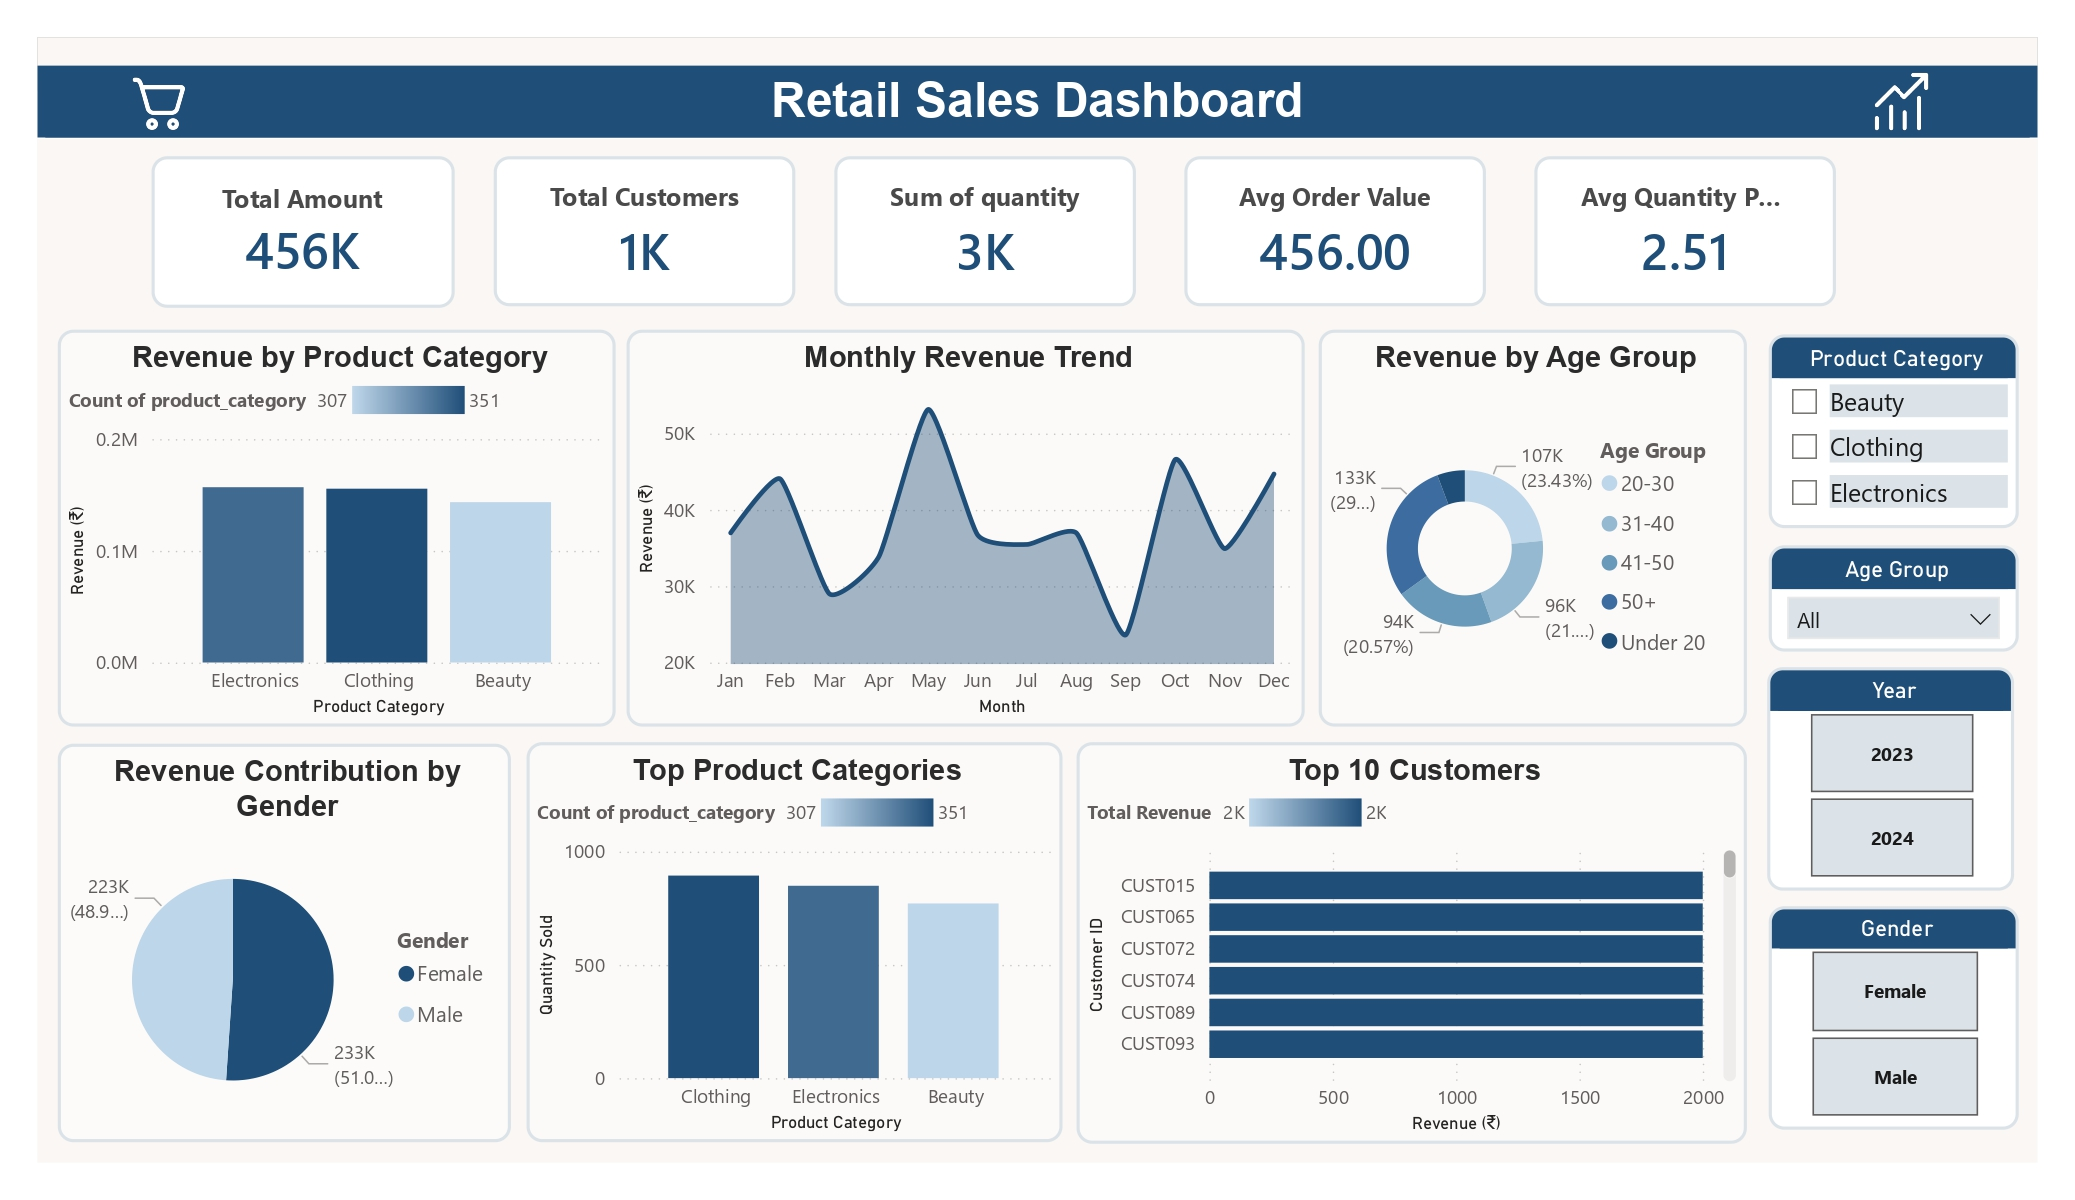

The page's visual inventory and layout, read from the dashboard file:
{"tool":"powerbi","page":{"name":"Page 1","canvas":[1280,720],"ordinal":0},"visuals":[{"type":"cardVisual","fields":{"Data":["Sum(cleaned_sales.total_amount)"]},"box":[73.3,76,193.3,96.7],"z":0},{"type":"cardVisual","fields":{"Data":["Count(cleaned_sales.customer_id)"]},"box":[291.9,76.4,193.2,96],"z":1000},{"type":"cardVisual","fields":{"Data":["Sum(cleaned_sales.quantity)"]},"box":[510.1,76.4,193.2,96],"z":2000},{"type":"cardVisual","fields":{"Data":["cleaned_sales.AOV"]},"box":[733.9,76.4,193.2,96],"z":3000},{"type":"cardVisual","fields":{"Data":["cleaned_sales.AvgQuantityPerCustomer"]},"box":[957.7,76.4,193.2,96],"z":4000},{"type":"areaChart","title":"Monthly Revenue Trend","fields":{"Category":["cleaned_sales.MonthName"],"Y":["cleaned_sales.MonthlyRevenue"]},"box":[377.1,187.1,434.3,254.3],"z":5000},{"type":"clusteredColumnChart","title":"Top Product Categories","fields":{"Category":["cleaned_sales.product_category"],"Y":["Sum(cleaned_sales.quantity)"]},"box":[312.9,451,342.9,255.7],"z":6000},{"type":"pieChart","title":"Revenue Contribution by Gender ","fields":{"Category":["cleaned_sales.gender"],"Y":["Sum(cleaned_sales.total_amount)"]},"box":[12.5,451.7,290.5,255.8],"z":7000},{"type":"columnChart","title":"Revenue by Product Category","fields":{"Category":["cleaned_sales.product_category"],"Y":["Sum(cleaned_sales.total_amount)"]},"box":[12.5,187,357.2,254.4],"z":8000},{"type":"donutChart","title":"Revenue by Age Group ","fields":{"Category":["cleaned_sales.AgeGroup"],"Y":["Sum(cleaned_sales.total_amount)"]},"box":[820.1,187,273.8,254.4],"z":9000},{"type":"slicer","title":"Product Category","fields":{"Values":["cleaned_sales.product_category"]},"box":[1107.8,190.4,159.8,123.7],"z":10000},{"type":"slicer","title":"Age Group","fields":{"Values":["cleaned_sales.AgeGroup"]},"box":[1107.8,325.3,159.8,68.1],"z":11000},{"type":"slicer","title":"Year","fields":{"Values":["cleaned_sales.Year"]},"box":[1107,403.1,158.5,143.2],"z":12000},{"type":"slicer","title":"Gender","fields":{"Values":["cleaned_sales.gender"]},"box":[1107.8,556,159.8,143],"z":13000},{"type":"clusteredBarChart","title":"Top 10 Customers","fields":{"Y":["cleaned_sales.Total Revenue"],"Category":["cleaned_sales.customer_id"]},"box":[665,451.2,428.8,256.2],"z":14000},{"type":"textbox","title":"Retail Sales Dashboard","box":[0,18.3,1280,46.7],"z":15000},{"type":"image","box":[1150.9,19.5,82,43.1],"z":16000},{"type":"image","box":[42.5,18.8,72.5,46.2],"z":18000}]}

Visuals, with their boxes on the page's 1280x720 design canvas (x1, y1, x2, y2). These are canvas units, not pixel positions in the 2075x1200 screenshot, which may show the page scaled, cropped or inside an application window:
cardVisual - Sum(cleaned_sales.total_amount): bbox=[73, 76, 267, 173]
cardVisual - Count(cleaned_sales.customer_id): bbox=[292, 76, 485, 172]
cardVisual - Sum(cleaned_sales.quantity): bbox=[510, 76, 703, 172]
cardVisual - cleaned_sales.AOV: bbox=[734, 76, 927, 172]
cardVisual - cleaned_sales.AvgQuantityPerCustomer: bbox=[958, 76, 1151, 172]
"Monthly Revenue Trend" areaChart: bbox=[377, 187, 811, 441]
"Top Product Categories" clusteredColumnChart: bbox=[313, 451, 656, 707]
"Revenue Contribution by Gender " pieChart: bbox=[12, 452, 303, 708]
"Revenue by Product Category" columnChart: bbox=[12, 187, 370, 441]
"Revenue by Age Group " donutChart: bbox=[820, 187, 1094, 441]
"Product Category" slicer: bbox=[1108, 190, 1268, 314]
"Age Group" slicer: bbox=[1108, 325, 1268, 393]
"Year" slicer: bbox=[1107, 403, 1266, 546]
"Gender" slicer: bbox=[1108, 556, 1268, 699]
"Top 10 Customers" clusteredBarChart: bbox=[665, 451, 1094, 707]
"Retail Sales Dashboard" textbox: bbox=[0, 18, 1280, 65]
image: bbox=[1151, 20, 1233, 63]
image: bbox=[42, 19, 115, 65]
